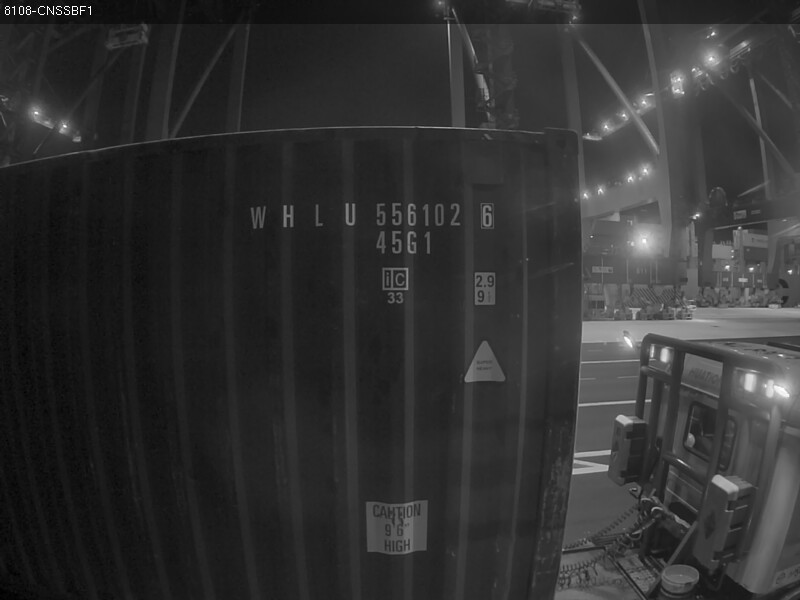container_no_door: (182, 113, 589, 597)
